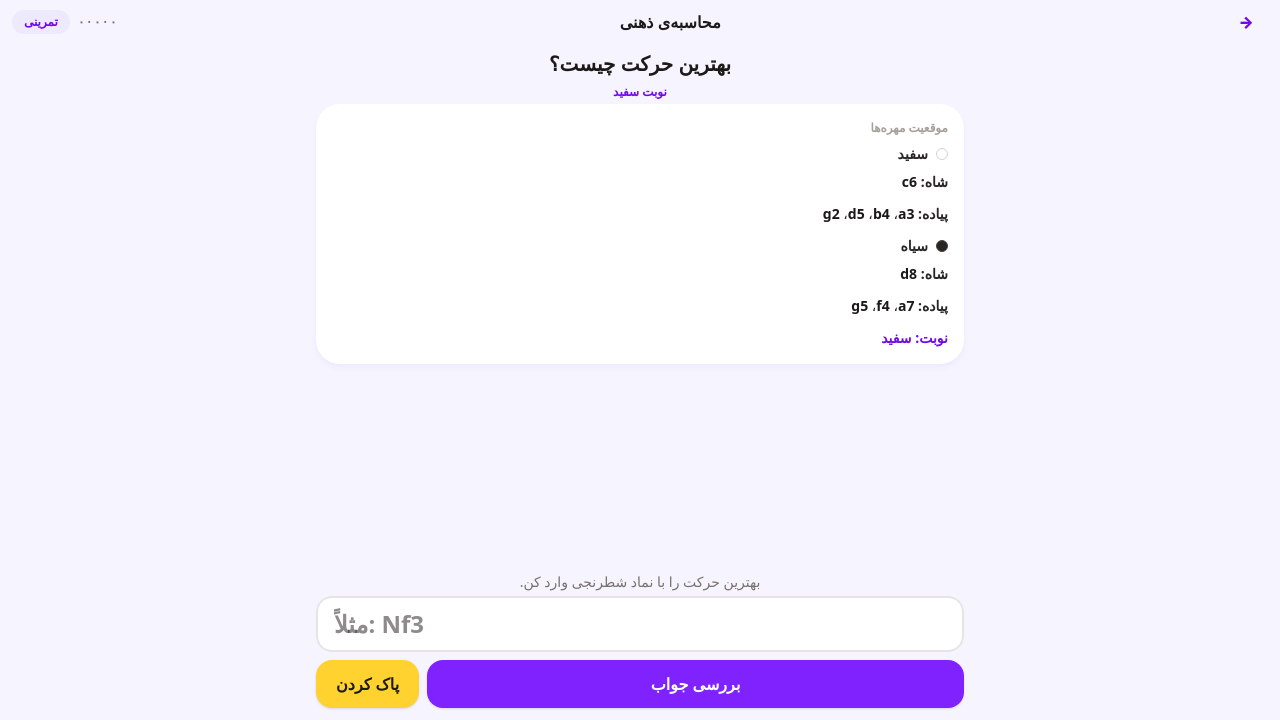
Scenario: practice mode › wrong feedback reveals the correct SAN
In the field named "بهترین حرکت": (640, 624) [316,596,964,652], type "Kc5"
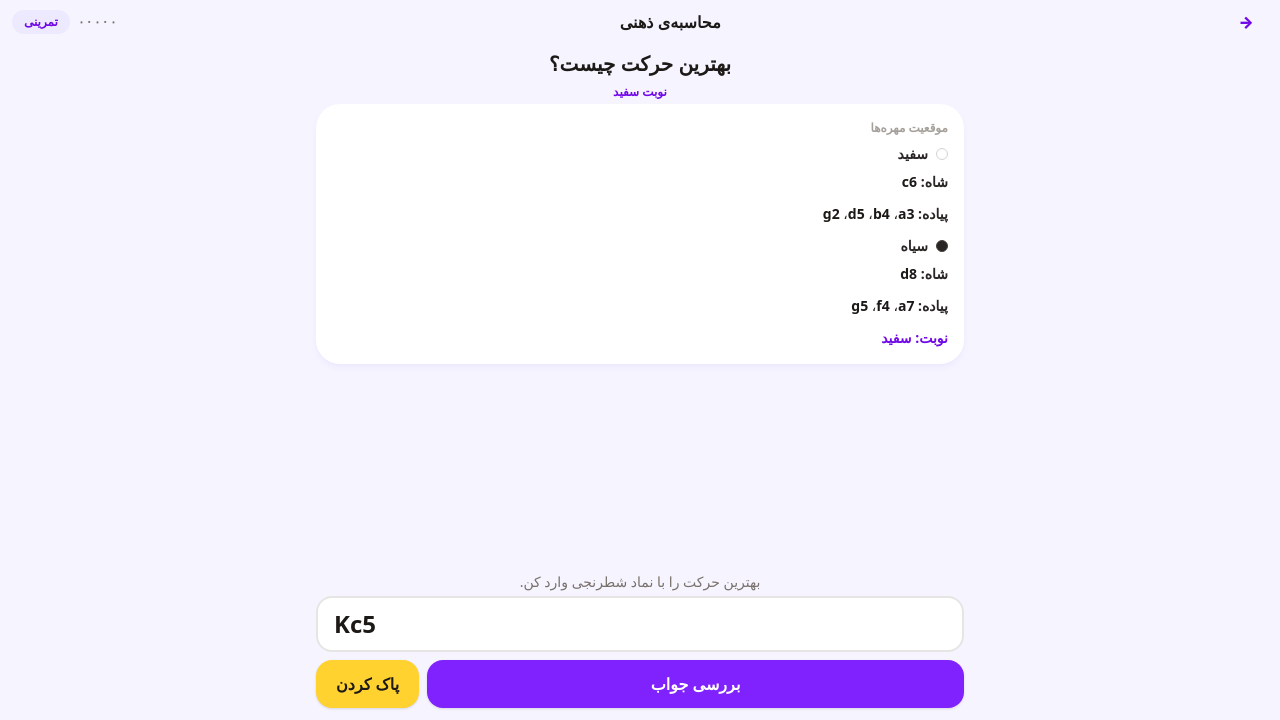
Click the button "بررسی جواب": (696, 684) [427,660,964,708]
Wait 50 ms
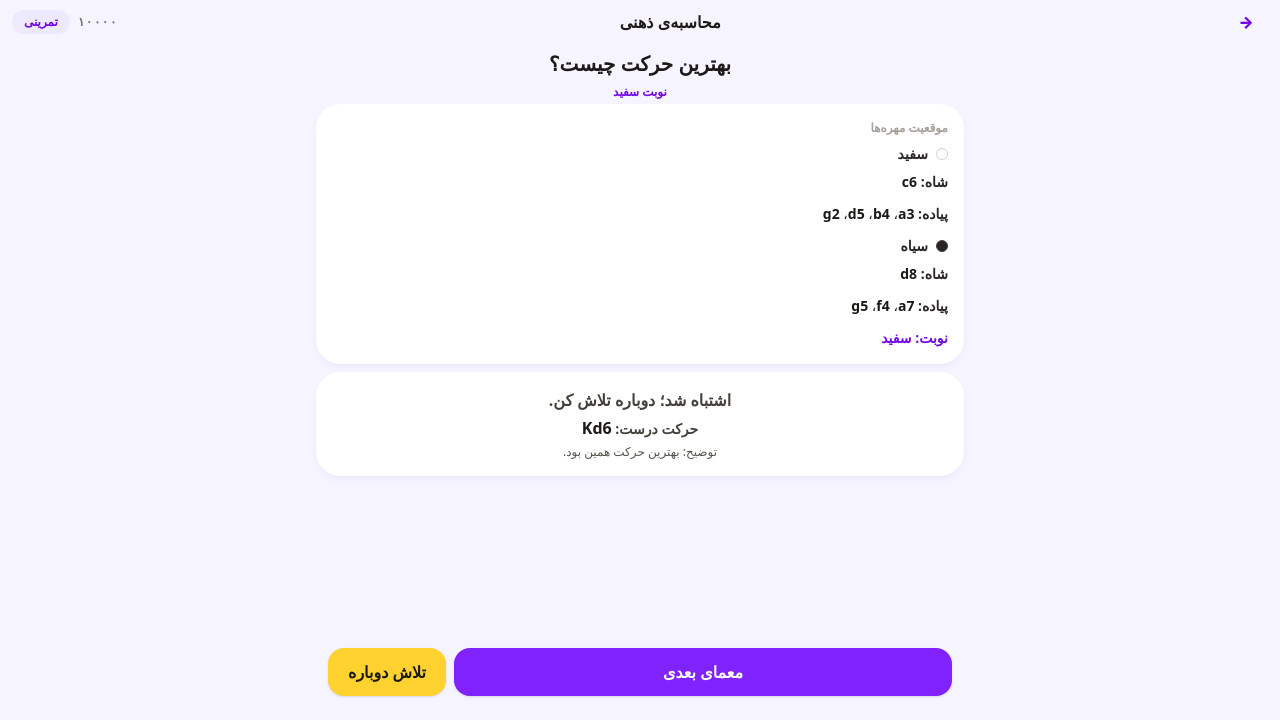
Expected: the element with test id "feedback" shows "Kd6", [582,417,612,439]
